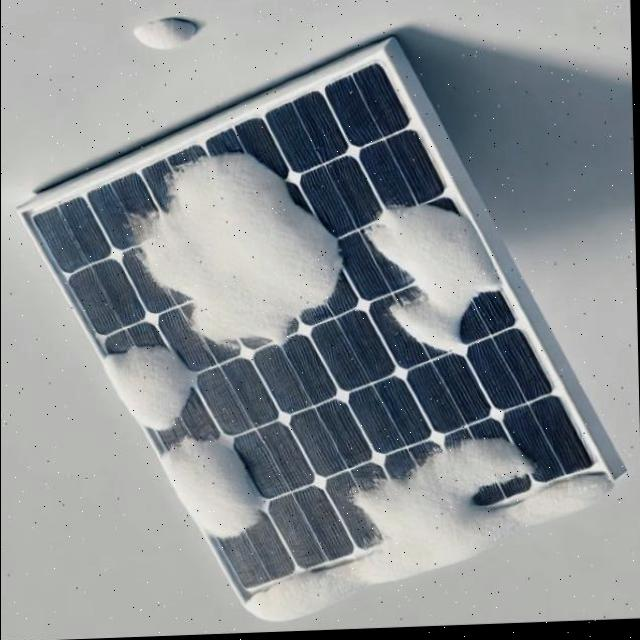Anomaly Solar Panel: (25, 33, 611, 635)
Snow: (217, 402, 610, 615), (107, 122, 364, 387), (348, 184, 521, 380), (153, 423, 265, 558), (95, 324, 208, 445)
